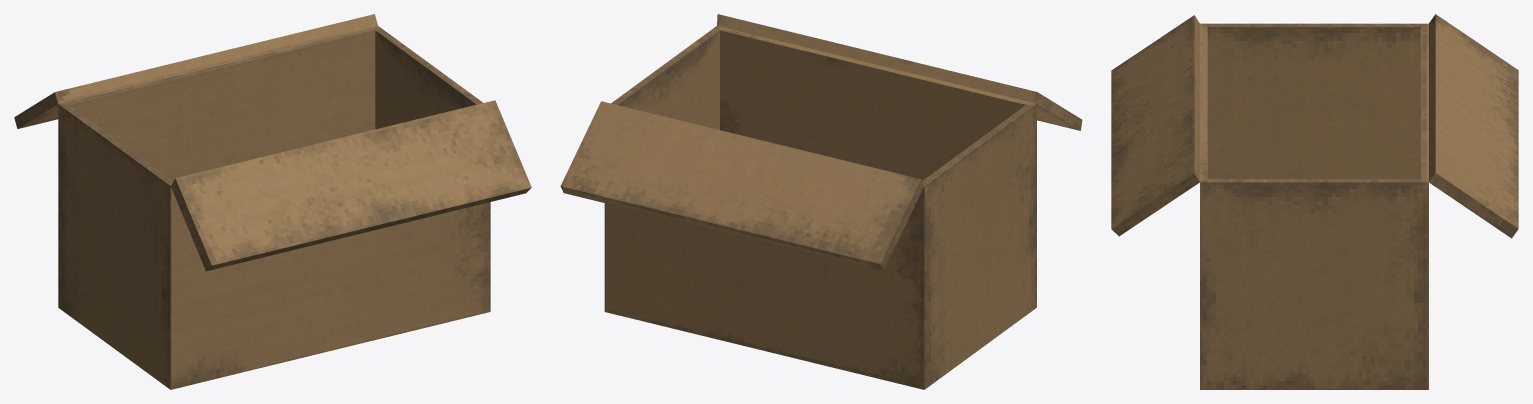
Rendered from TargetBox.glb.
3 renders of one model, left to right at view 1: azimuth 30°, elevation 25°; view 2: azimuth 150°, elevation 25°; view 3: azimuth 270°, elevation 25°, orthographic.
Visible parts, largest first — view 1: Cube; view 2: Cube; view 3: Cube.
Part boxes in pixels (x1=…): Cube: x1=14, y1=14, x2=531, y2=389; Cube: x1=560, y1=14, x2=1082, y2=389; Cube: x1=1111, y1=14, x2=1518, y2=389.
Size of the model in its own units: 0.5026 by 0.3138 by 0.5335.
1 material, 1 textured.
